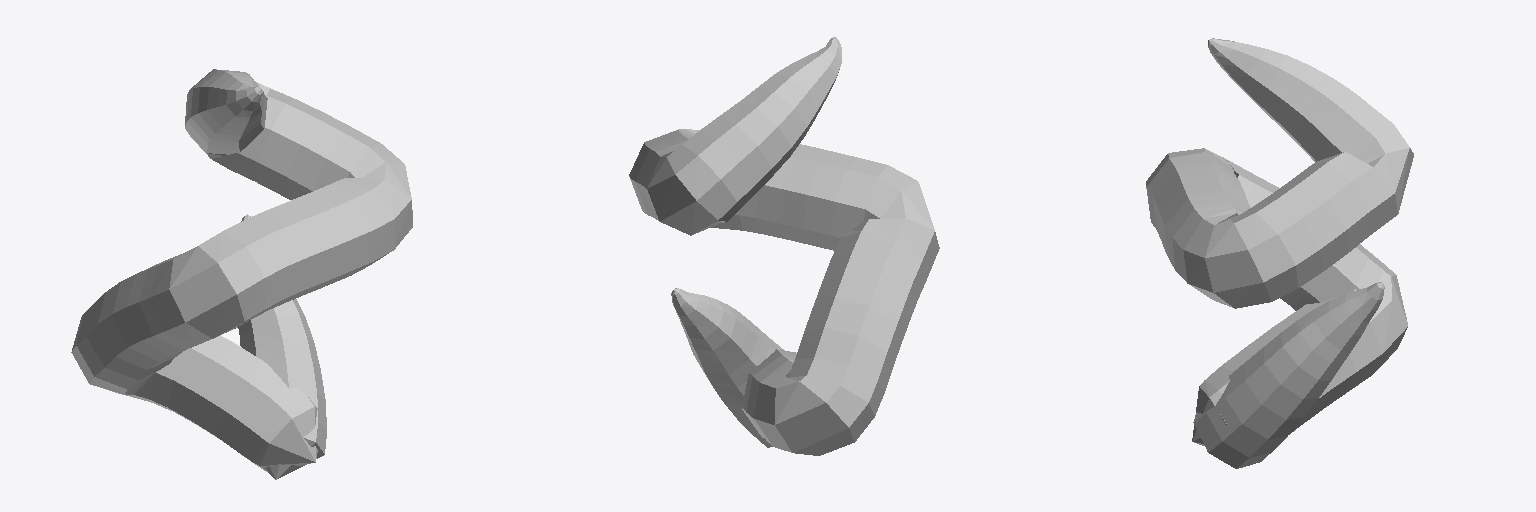
3 renders of one model, left to right at view 1: azimuth 30°, elevation 25°; view 2: azimuth 150°, elevation 25°; view 3: azimuth 270°, elevation 25°, orthographic.
Parts seen in each view (by area): view 1: Toon_geo.001_Toon_mesh.001; view 2: Toon_geo.001_Toon_mesh.001; view 3: Toon_geo.001_Toon_mesh.001.
Boxes of the visible parts, x1,y1,x2,y2 form: Toon_geo.001_Toon_mesh.001: [71, 69, 412, 479]; Toon_geo.001_Toon_mesh.001: [629, 37, 939, 455]; Toon_geo.001_Toon_mesh.001: [1146, 38, 1413, 468].
Size of the model in its own units: 0.6341 by 0.8702 by 0.5262.